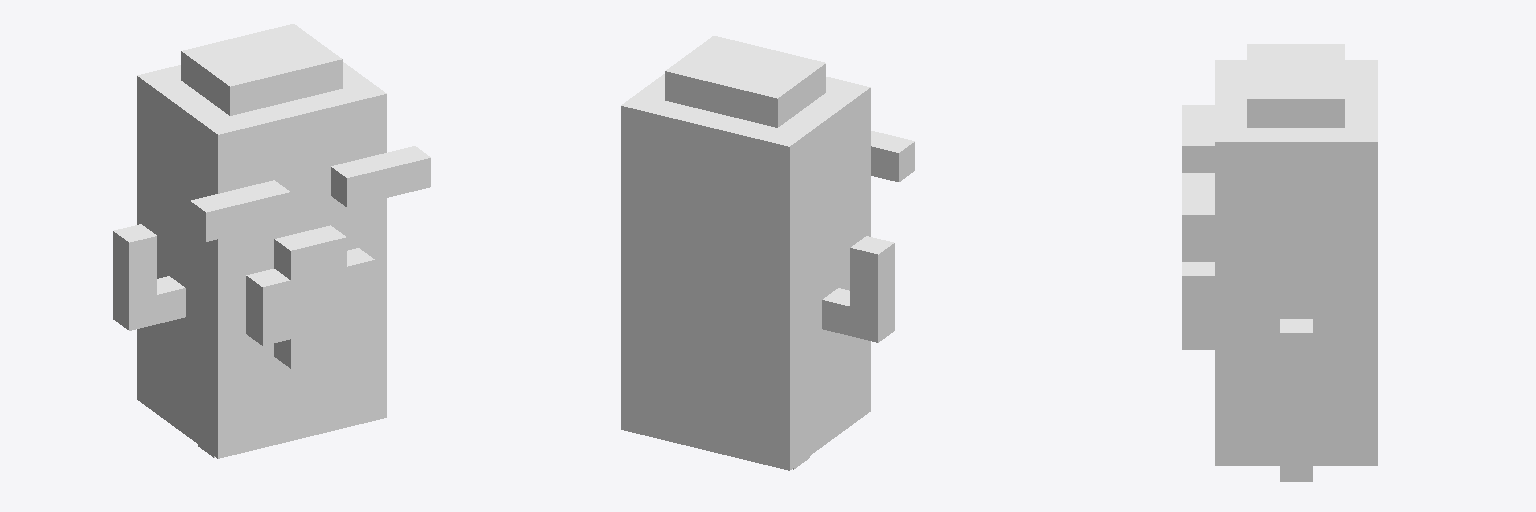
File: chr_old_rhu.obj
3 renders of one model, left to right at view 1: azimuth 30°, elevation 25°; view 2: azimuth 150°, elevation 25°; view 3: azimuth 270°, elevation 25°, orthographic.
Visible parts, largest first — view 1: chr_old_rhu; view 2: chr_old_rhu; view 3: chr_old_rhu.
Boxes of the visible parts, box(x1,y1,x2,y2) form: chr_old_rhu: box(113, 24, 430, 458); chr_old_rhu: box(621, 36, 914, 470); chr_old_rhu: box(1182, 44, 1377, 481).
Bounding box in the file's own units: 9 × 13 × 6.